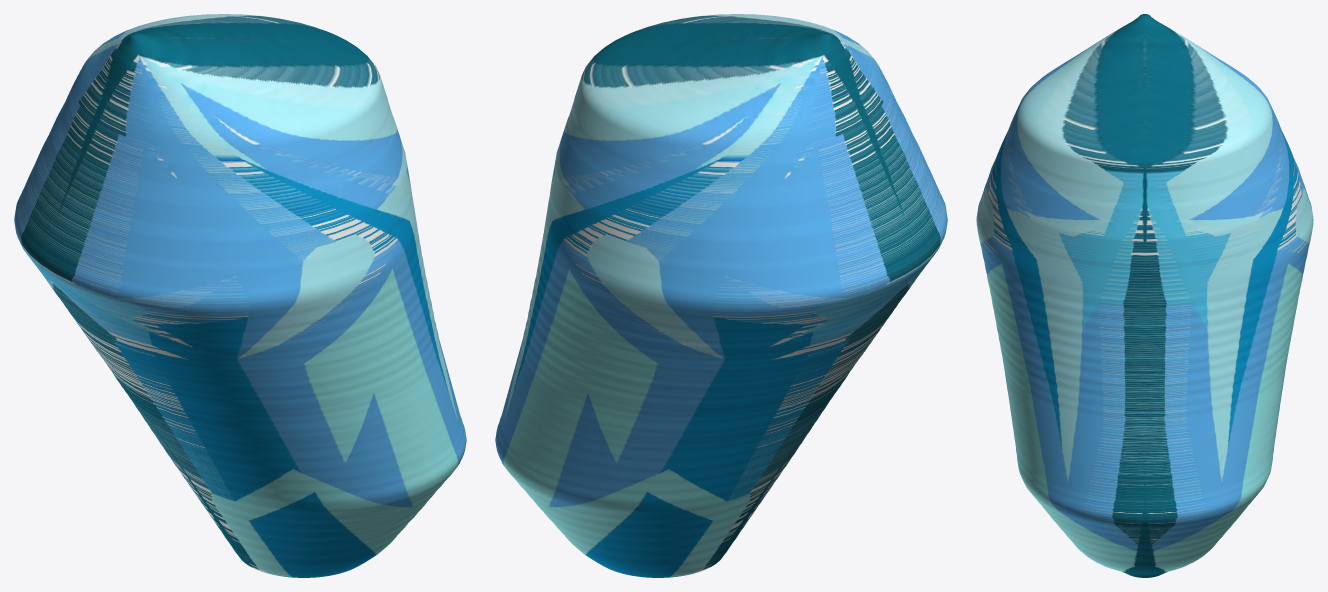
Rendered from blade_crystal.glb.
3 renders of one model, left to right at view 1: azimuth 30°, elevation 25°; view 2: azimuth 150°, elevation 25°; view 3: azimuth 270°, elevation 25°, orthographic. The views are drawn at different scales.
Visible parts, largest first — view 1: blade_crystal; view 2: blade_crystal; view 3: blade_crystal.
Boxes of the visible parts, x1,y1,x2,y2 form: blade_crystal: (14,14,466,577); blade_crystal: (495,14,947,577); blade_crystal: (976,14,1313,577).
Bounding box in the file's own units: 0.9913 × 1.33 × 0.852.
Materials: 1 (1 with a texture image).
